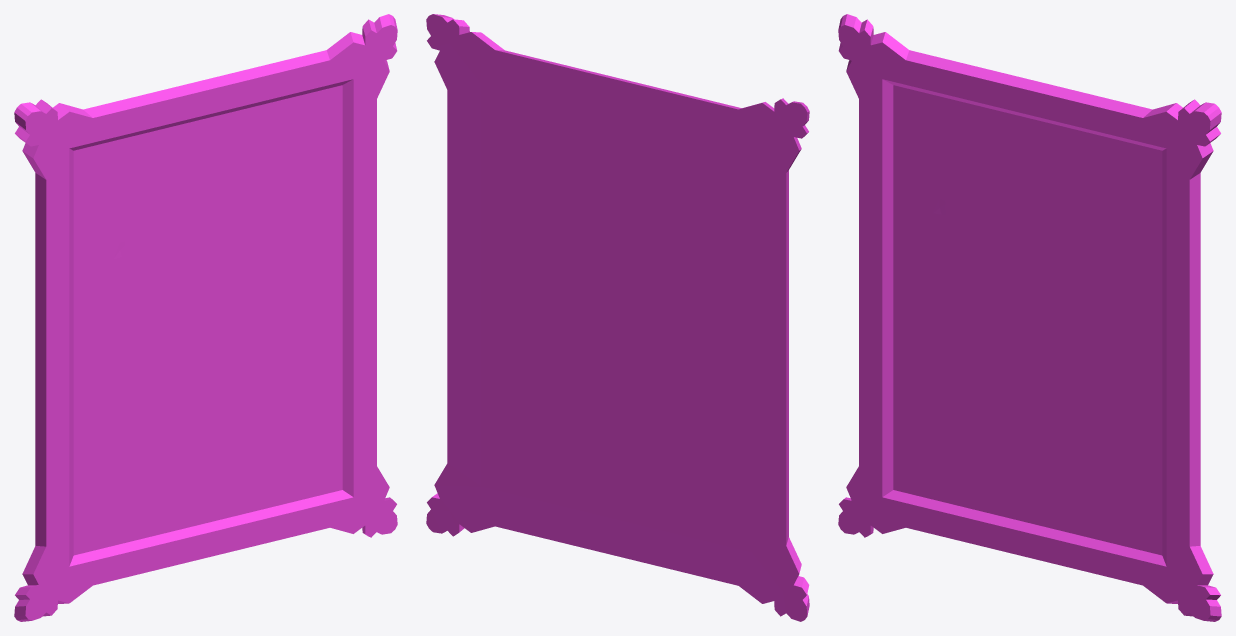
File: SM_Picture_Unicorn_Painting_Fantasy.fbx
The picture shows the model from 3 angles, left to right: view 1: azimuth 30°, elevation 25°; view 2: azimuth 150°, elevation 25°; view 3: azimuth 330°, elevation 25°; orthographic projection.
Parts seen in each view (by area): view 1: SM_Picture_Unicorn_Painting_Fantasy; view 2: SM_Picture_Unicorn_Painting_Fantasy; view 3: SM_Picture_Unicorn_Painting_Fantasy.
Boxes of the visible parts, x1=… form: SM_Picture_Unicorn_Painting_Fantasy: x1=14, y1=14, x2=397, y2=621; SM_Picture_Unicorn_Painting_Fantasy: x1=426, y1=14, x2=809, y2=621; SM_Picture_Unicorn_Painting_Fantasy: x1=838, y1=14, x2=1221, y2=621.
Bounding box in the file's own units: 1.5 × 1.95 × 0.0459.
